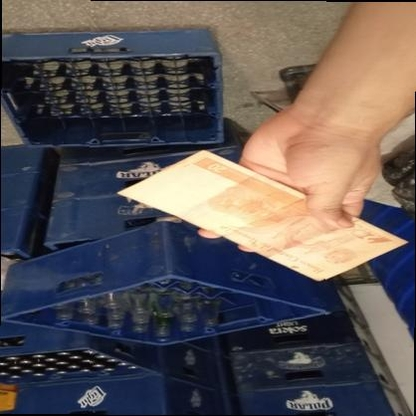twenty-back-vef: (117, 149, 408, 282)
